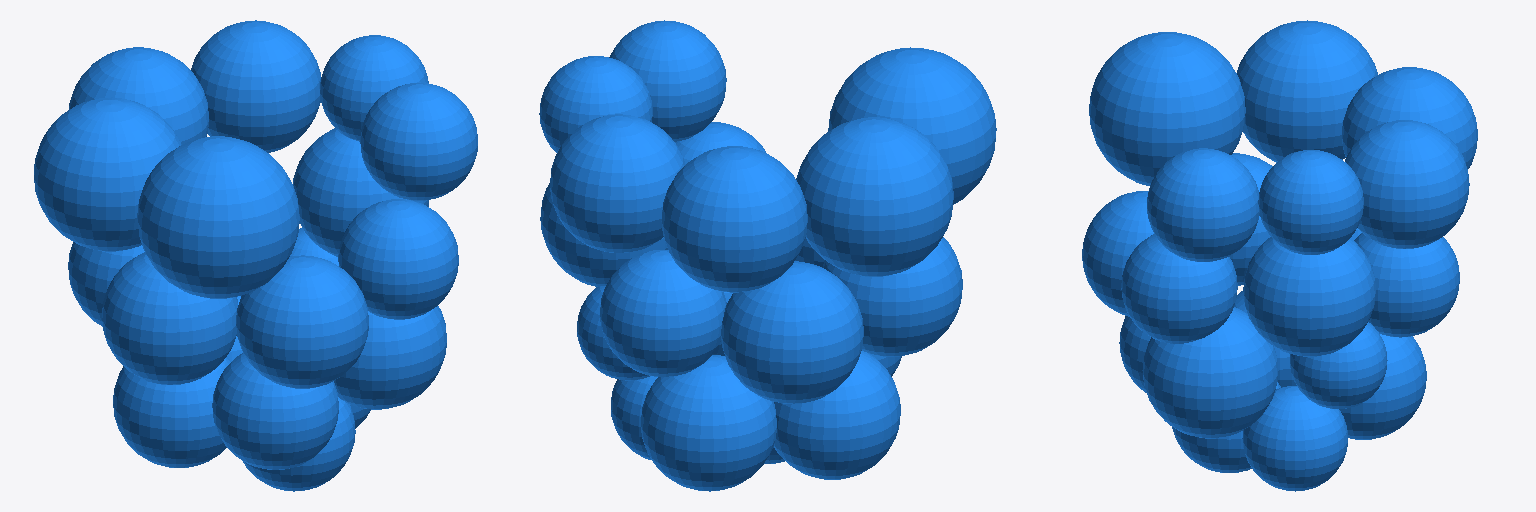
The robot description file, URDF, robot "planter":
<?xml version="1.0"?>
<robot name="planter">
  <!-- morphit:centroid 0.005383 0.004312 0.077484 -->
  <material name="default_color">
    <color rgba="0.200000 0.600000 1.000000 1.000000"/>
  </material>
  <link name="base">
    <inertial>
      <mass value="0.001000"/>
      <inertia ixx="0.000010" ixy="0.0" ixz="0.0" iyy="0.000010" iyz="0.0" izz="0.000010"/>
    </inertial>
  </link>
  <link name="sphere_0">
    <visual>
      <origin xyz="0 0 0" rpy="0 0 0"/>
      <geometry><sphere radius="0.029248"/></geometry>
      <material name="default_color"/>
    </visual>
    <collision>
      <origin xyz="0 0 0" rpy="0 0 0"/>
      <geometry><sphere radius="0.029248"/></geometry>
    </collision>
    <inertial>
      <mass value="0.053219"/>
      <inertia ixx="0.000018" ixy="0.0" ixz="0.0" iyy="0.000018" iyz="0.0" izz="0.000018"/>
    </inertial>
  </link>
  <joint name="sphere_0_fixed" type="fixed">
    <parent link="base"/>
    <child link="sphere_0"/>
    <origin xyz="-0.045003 -0.000259 -0.057093" rpy="0 0 0"/>
  </joint>
  <link name="sphere_1">
    <visual>
      <origin xyz="0 0 0" rpy="0 0 0"/>
      <geometry><sphere radius="0.034022"/></geometry>
      <material name="default_color"/>
    </visual>
    <collision>
      <origin xyz="0 0 0" rpy="0 0 0"/>
      <geometry><sphere radius="0.034022"/></geometry>
    </collision>
    <inertial>
      <mass value="0.083761"/>
      <inertia ixx="0.000039" ixy="0.0" ixz="0.0" iyy="0.000039" iyz="0.0" izz="0.000039"/>
    </inertial>
  </link>
  <joint name="sphere_1_fixed" type="fixed">
    <parent link="base"/>
    <child link="sphere_1"/>
    <origin xyz="-0.072650 0.012187 0.054890" rpy="0 0 0"/>
  </joint>
  <link name="sphere_2">
    <visual>
      <origin xyz="0 0 0" rpy="0 0 0"/>
      <geometry><sphere radius="0.029597"/></geometry>
      <material name="default_color"/>
    </visual>
    <collision>
      <origin xyz="0 0 0" rpy="0 0 0"/>
      <geometry><sphere radius="0.029597"/></geometry>
    </collision>
    <inertial>
      <mass value="0.055144"/>
      <inertia ixx="0.000019" ixy="0.0" ixz="0.0" iyy="0.000019" iyz="0.0" izz="0.000019"/>
    </inertial>
  </link>
  <joint name="sphere_2_fixed" type="fixed">
    <parent link="base"/>
    <child link="sphere_2"/>
    <origin xyz="0.026677 0.056852 0.055998" rpy="0 0 0"/>
  </joint>
  <link name="sphere_3">
    <visual>
      <origin xyz="0 0 0" rpy="0 0 0"/>
      <geometry><sphere radius="0.027234"/></geometry>
      <material name="default_color"/>
    </visual>
    <collision>
      <origin xyz="0 0 0" rpy="0 0 0"/>
      <geometry><sphere radius="0.027234"/></geometry>
    </collision>
    <inertial>
      <mass value="0.042962"/>
      <inertia ixx="0.000013" ixy="0.0" ixz="0.0" iyy="0.000013" iyz="0.0" izz="0.000013"/>
    </inertial>
  </link>
  <joint name="sphere_3_fixed" type="fixed">
    <parent link="base"/>
    <child link="sphere_3"/>
    <origin xyz="0.005997 0.054904 -0.000765" rpy="0 0 0"/>
  </joint>
  <link name="sphere_4">
    <visual>
      <origin xyz="0 0 0" rpy="0 0 0"/>
      <geometry><sphere radius="0.031122"/></geometry>
      <material name="default_color"/>
    </visual>
    <collision>
      <origin xyz="0 0 0" rpy="0 0 0"/>
      <geometry><sphere radius="0.031122"/></geometry>
    </collision>
    <inertial>
      <mass value="0.064117"/>
      <inertia ixx="0.000025" ixy="0.0" ixz="0.0" iyy="0.000025" iyz="0.0" izz="0.000025"/>
    </inertial>
  </link>
  <joint name="sphere_4_fixed" type="fixed">
    <parent link="base"/>
    <child link="sphere_4"/>
    <origin xyz="0.037231 -0.031925 -0.032914" rpy="0 0 0"/>
  </joint>
  <link name="sphere_5">
    <visual>
      <origin xyz="0 0 0" rpy="0 0 0"/>
      <geometry><sphere radius="0.031212"/></geometry>
      <material name="default_color"/>
    </visual>
    <collision>
      <origin xyz="0 0 0" rpy="0 0 0"/>
      <geometry><sphere radius="0.031212"/></geometry>
    </collision>
    <inertial>
      <mass value="0.064670"/>
      <inertia ixx="0.000025" ixy="0.0" ixz="0.0" iyy="0.000025" iyz="0.0" izz="0.000025"/>
    </inertial>
  </link>
  <joint name="sphere_5_fixed" type="fixed">
    <parent link="base"/>
    <child link="sphere_5"/>
    <origin xyz="-0.031328 0.059125 0.053807" rpy="0 0 0"/>
  </joint>
  <link name="sphere_6">
    <visual>
      <origin xyz="0 0 0" rpy="0 0 0"/>
      <geometry><sphere radius="0.026092"/></geometry>
      <material name="default_color"/>
    </visual>
    <collision>
      <origin xyz="0 0 0" rpy="0 0 0"/>
      <geometry><sphere radius="0.026092"/></geometry>
    </collision>
    <inertial>
      <mass value="0.037780"/>
      <inertia ixx="0.000010" ixy="0.0" ixz="0.0" iyy="0.000010" iyz="0.0" izz="0.000010"/>
    </inertial>
  </link>
  <joint name="sphere_6_fixed" type="fixed">
    <parent link="base"/>
    <child link="sphere_6"/>
    <origin xyz="0.057067 -0.035073 0.059692" rpy="0 0 0"/>
  </joint>
  <link name="sphere_7">
    <visual>
      <origin xyz="0 0 0" rpy="0 0 0"/>
      <geometry><sphere radius="0.022367"/></geometry>
      <material name="default_color"/>
    </visual>
    <collision>
      <origin xyz="0 0 0" rpy="0 0 0"/>
      <geometry><sphere radius="0.022367"/></geometry>
    </collision>
    <inertial>
      <mass value="0.023801"/>
      <inertia ixx="0.000005" ixy="0.0" ixz="0.0" iyy="0.000005" iyz="0.0" izz="0.000005"/>
    </inertial>
  </link>
  <joint name="sphere_7_fixed" type="fixed">
    <parent link="base"/>
    <child link="sphere_7"/>
    <origin xyz="0.039245 0.026591 -0.026845" rpy="0 0 0"/>
  </joint>
  <link name="sphere_8">
    <visual>
      <origin xyz="0 0 0" rpy="0 0 0"/>
      <geometry><sphere radius="0.024211"/></geometry>
      <material name="default_color"/>
    </visual>
    <collision>
      <origin xyz="0 0 0" rpy="0 0 0"/>
      <geometry><sphere radius="0.024211"/></geometry>
    </collision>
    <inertial>
      <mass value="0.030184"/>
      <inertia ixx="0.000007" ixy="0.0" ixz="0.0" iyy="0.000007" iyz="0.0" izz="0.000007"/>
    </inertial>
  </link>
  <joint name="sphere_8_fixed" type="fixed">
    <parent link="base"/>
    <child link="sphere_8"/>
    <origin xyz="0.031934 0.006855 -0.069624" rpy="0 0 0"/>
  </joint>
  <link name="sphere_9">
    <visual>
      <origin xyz="0 0 0" rpy="0 0 0"/>
      <geometry><sphere radius="0.029443"/></geometry>
      <material name="default_color"/>
    </visual>
    <collision>
      <origin xyz="0 0 0" rpy="0 0 0"/>
      <geometry><sphere radius="0.029443"/></geometry>
    </collision>
    <inertial>
      <mass value="0.054286"/>
      <inertia ixx="0.000019" ixy="0.0" ixz="0.0" iyy="0.000019" iyz="0.0" izz="0.000019"/>
    </inertial>
  </link>
  <joint name="sphere_9_fixed" type="fixed">
    <parent link="base"/>
    <child link="sphere_9"/>
    <origin xyz="-0.017447 -0.061293 -0.000048" rpy="0 0 0"/>
  </joint>
  <link name="sphere_10">
    <visual>
      <origin xyz="0 0 0" rpy="0 0 0"/>
      <geometry><sphere radius="0.027996"/></geometry>
      <material name="default_color"/>
    </visual>
    <collision>
      <origin xyz="0 0 0" rpy="0 0 0"/>
      <geometry><sphere radius="0.027996"/></geometry>
    </collision>
    <inertial>
      <mass value="0.046670"/>
      <inertia ixx="0.000015" ixy="0.0" ixz="0.0" iyy="0.000015" iyz="0.0" izz="0.000015"/>
    </inertial>
  </link>
  <joint name="sphere_10_fixed" type="fixed">
    <parent link="base"/>
    <child link="sphere_10"/>
    <origin xyz="-0.022046 -0.045586 -0.046438" rpy="0 0 0"/>
  </joint>
  <link name="sphere_11">
    <visual>
      <origin xyz="0 0 0" rpy="0 0 0"/>
      <geometry><sphere radius="0.026865"/></geometry>
      <material name="default_color"/>
    </visual>
    <collision>
      <origin xyz="0 0 0" rpy="0 0 0"/>
      <geometry><sphere radius="0.026865"/></geometry>
    </collision>
    <inertial>
      <mass value="0.041240"/>
      <inertia ixx="0.000012" ixy="0.0" ixz="0.0" iyy="0.000012" iyz="0.0" izz="0.000012"/>
    </inertial>
  </link>
  <joint name="sphere_11_fixed" type="fixed">
    <parent link="base"/>
    <child link="sphere_11"/>
    <origin xyz="0.000524 -0.023365 -0.072248" rpy="0 0 0"/>
  </joint>
  <link name="sphere_12">
    <visual>
      <origin xyz="0 0 0" rpy="0 0 0"/>
      <geometry><sphere radius="0.035912"/></geometry>
      <material name="default_color"/>
    </visual>
    <collision>
      <origin xyz="0 0 0" rpy="0 0 0"/>
      <geometry><sphere radius="0.035912"/></geometry>
    </collision>
    <inertial>
      <mass value="0.098512"/>
      <inertia ixx="0.000051" ixy="0.0" ixz="0.0" iyy="0.000051" iyz="0.0" izz="0.000051"/>
    </inertial>
  </link>
  <joint name="sphere_12_fixed" type="fixed">
    <parent link="base"/>
    <child link="sphere_12"/>
    <origin xyz="-0.054589 -0.051624 0.055547" rpy="0 0 0"/>
  </joint>
  <link name="sphere_13">
    <visual>
      <origin xyz="0 0 0" rpy="0 0 0"/>
      <geometry><sphere radius="0.030452"/></geometry>
      <material name="default_color"/>
    </visual>
    <collision>
      <origin xyz="0 0 0" rpy="0 0 0"/>
      <geometry><sphere radius="0.030452"/></geometry>
    </collision>
    <inertial>
      <mass value="0.060061"/>
      <inertia ixx="0.000022" ixy="0.0" ixz="0.0" iyy="0.000022" iyz="0.0" izz="0.000022"/>
    </inertial>
  </link>
  <joint name="sphere_13_fixed" type="fixed">
    <parent link="base"/>
    <child link="sphere_13"/>
    <origin xyz="-0.061641 -0.021735 -0.002835" rpy="0 0 0"/>
  </joint>
  <link name="sphere_14">
    <visual>
      <origin xyz="0 0 0" rpy="0 0 0"/>
      <geometry><sphere radius="0.029200"/></geometry>
      <material name="default_color"/>
    </visual>
    <collision>
      <origin xyz="0 0 0" rpy="0 0 0"/>
      <geometry><sphere radius="0.029200"/></geometry>
    </collision>
    <inertial>
      <mass value="0.052954"/>
      <inertia ixx="0.000018" ixy="0.0" ixz="0.0" iyy="0.000018" iyz="0.0" izz="0.000018"/>
    </inertial>
  </link>
  <joint name="sphere_14_fixed" type="fixed">
    <parent link="base"/>
    <child link="sphere_14"/>
    <origin xyz="-0.006442 0.037788 -0.056134" rpy="0 0 0"/>
  </joint>
  <link name="sphere_15">
    <visual>
      <origin xyz="0 0 0" rpy="0 0 0"/>
      <geometry><sphere radius="0.030480"/></geometry>
      <material name="default_color"/>
    </visual>
    <collision>
      <origin xyz="0 0 0" rpy="0 0 0"/>
      <geometry><sphere radius="0.030480"/></geometry>
    </collision>
    <inertial>
      <mass value="0.060228"/>
      <inertia ixx="0.000022" ixy="0.0" ixz="0.0" iyy="0.000022" iyz="0.0" izz="0.000022"/>
    </inertial>
  </link>
  <joint name="sphere_15_fixed" type="fixed">
    <parent link="base"/>
    <child link="sphere_15"/>
    <origin xyz="-0.045867 0.035235 -0.005643" rpy="0 0 0"/>
  </joint>
  <link name="sphere_16">
    <visual>
      <origin xyz="0 0 0" rpy="0 0 0"/>
      <geometry><sphere radius="0.024197"/></geometry>
      <material name="default_color"/>
    </visual>
    <collision>
      <origin xyz="0 0 0" rpy="0 0 0"/>
      <geometry><sphere radius="0.024197"/></geometry>
    </collision>
    <inertial>
      <mass value="0.030132"/>
      <inertia ixx="0.000007" ixy="0.0" ixz="0.0" iyy="0.000007" iyz="0.0" izz="0.000007"/>
    </inertial>
  </link>
  <joint name="sphere_16_fixed" type="fixed">
    <parent link="base"/>
    <child link="sphere_16"/>
    <origin xyz="0.062718 0.014054 0.063712" rpy="0 0 0"/>
  </joint>
  <link name="sphere_17">
    <visual>
      <origin xyz="0 0 0" rpy="0 0 0"/>
      <geometry><sphere radius="0.026676"/></geometry>
      <material name="default_color"/>
    </visual>
    <collision>
      <origin xyz="0 0 0" rpy="0 0 0"/>
      <geometry><sphere radius="0.026676"/></geometry>
    </collision>
    <inertial>
      <mass value="0.040375"/>
      <inertia ixx="0.000011" ixy="0.0" ixz="0.0" iyy="0.000011" iyz="0.0" izz="0.000011"/>
    </inertial>
  </link>
  <joint name="sphere_17_fixed" type="fixed">
    <parent link="base"/>
    <child link="sphere_17"/>
    <origin xyz="0.040165 -0.046131 0.010915" rpy="0 0 0"/>
  </joint>
  <link name="sphere_18">
    <visual>
      <origin xyz="0 0 0" rpy="0 0 0"/>
      <geometry><sphere radius="0.030425"/></geometry>
      <material name="default_color"/>
    </visual>
    <collision>
      <origin xyz="0 0 0" rpy="0 0 0"/>
      <geometry><sphere radius="0.030425"/></geometry>
    </collision>
    <inertial>
      <mass value="0.059906"/>
      <inertia ixx="0.000022" ixy="0.0" ixz="0.0" iyy="0.000022" iyz="0.0" izz="0.000022"/>
    </inertial>
  </link>
  <joint name="sphere_18_fixed" type="fixed">
    <parent link="base"/>
    <child link="sphere_18"/>
    <origin xyz="0.055452 0.013398 0.016025" rpy="0 0 0"/>
  </joint>
</robot>

--- Render facts (derived) ---
The picture shows the robot from 3 angles, left to right: view 1: azimuth 30°, elevation 25°; view 2: azimuth 150°, elevation 25°; view 3: azimuth 270°, elevation 25°; orthographic projection.
Robot: planter — 20 links, 19 joints (19 fixed); root link base; default pose: all joints at 0.
Visible links, largest first — view 1: sphere_12, sphere_1, sphere_9, sphere_2, sphere_13, sphere_17, sphere_6, sphere_10, sphere_0, sphere_4, sphere_5, sphere_18 (+4 smaller); view 2: sphere_1, sphere_5, sphere_15, sphere_2, sphere_14, sphere_12, sphere_3, sphere_0, sphere_6, sphere_13, sphere_16, sphere_18 (+3 smaller); view 3: sphere_12, sphere_1, sphere_4, sphere_18, sphere_2, sphere_6, sphere_17, sphere_16, sphere_8, sphere_3, sphere_5, sphere_7 (+6 smaller).
Boxes of the visible links, x1,y1,x2,y2 form: sphere_12: [137, 136, 299, 298]; sphere_1: [34, 97, 181, 251]; sphere_9: [236, 255, 368, 388]; sphere_2: [191, 20, 320, 152]; sphere_13: [102, 252, 237, 384]; sphere_17: [338, 199, 458, 319]; sphere_6: [360, 83, 477, 200]; sphere_10: [212, 353, 338, 469]; sphere_0: [113, 357, 231, 467]; sphere_4: [334, 306, 446, 409]; sphere_5: [69, 47, 208, 144]; sphere_18: [293, 128, 428, 256]; sphere_1: [796, 117, 953, 276]; sphere_5: [661, 146, 807, 292]; sphere_15: [721, 261, 863, 403]; sphere_2: [550, 114, 685, 252]; sphere_14: [641, 355, 776, 491]; sphere_12: [828, 47, 996, 204]; sphere_3: [600, 250, 726, 376]; sphere_0: [774, 351, 900, 479]; sphere_6: [609, 20, 726, 141]; sphere_13: [822, 237, 962, 356]; sphere_16: [539, 56, 652, 152]; sphere_18: [540, 183, 667, 286]; sphere_12: [1089, 32, 1245, 185]; sphere_1: [1237, 20, 1377, 162]; sphere_4: [1142, 307, 1278, 438]; sphere_18: [1243, 237, 1375, 356]; sphere_2: [1345, 120, 1469, 248]; sphere_6: [1147, 148, 1259, 261]; sphere_17: [1121, 234, 1237, 343]; sphere_16: [1258, 150, 1363, 254]; sphere_8: [1242, 386, 1347, 491]; sphere_3: [1354, 233, 1459, 337]; sphere_5: [1342, 67, 1477, 168]; sphere_7: [1290, 322, 1387, 408].
Size in the robot's own frame: 0.1936 by 0.1811 by 0.1906 metres.
Geometry: primitives only (box / cylinder / sphere), no mesh files.
